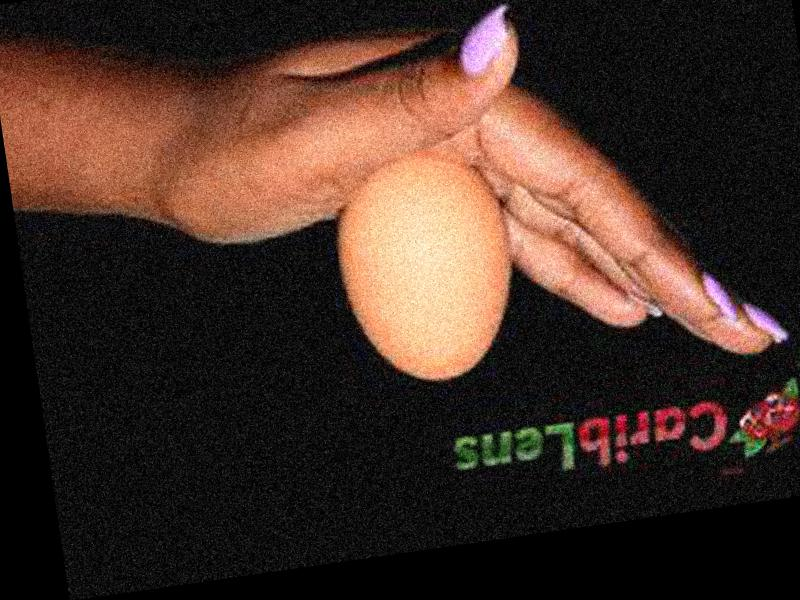Eggs: (325, 145, 528, 393)
